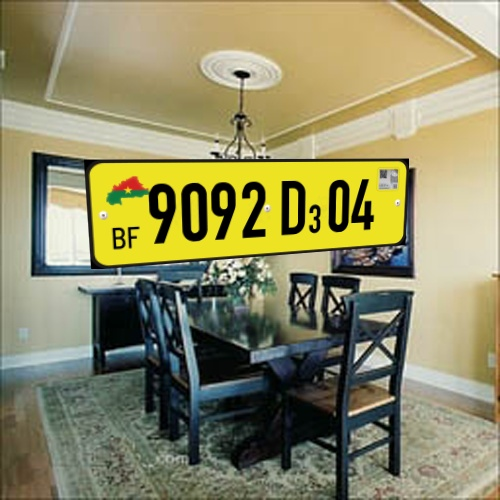plate: (79, 151, 421, 275)
